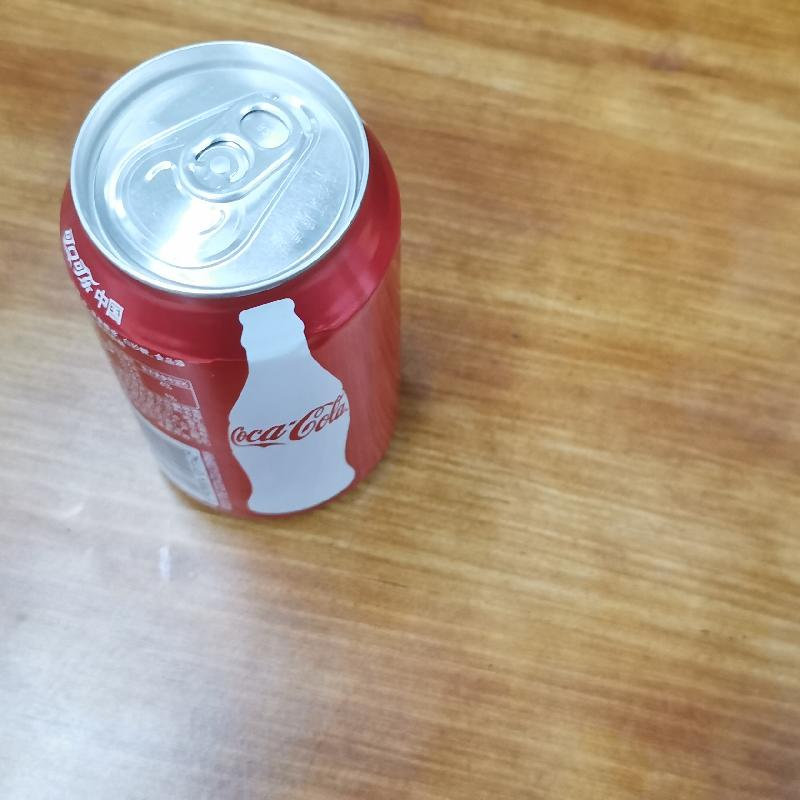cans: (43, 34, 424, 534)
